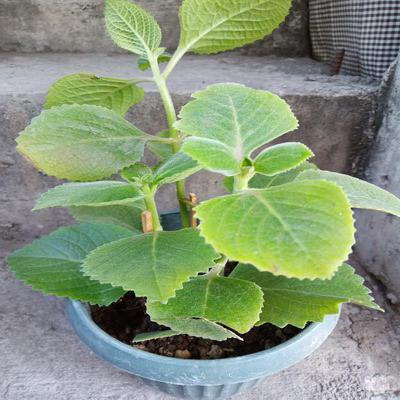Oregano: (42, 58, 366, 374)
